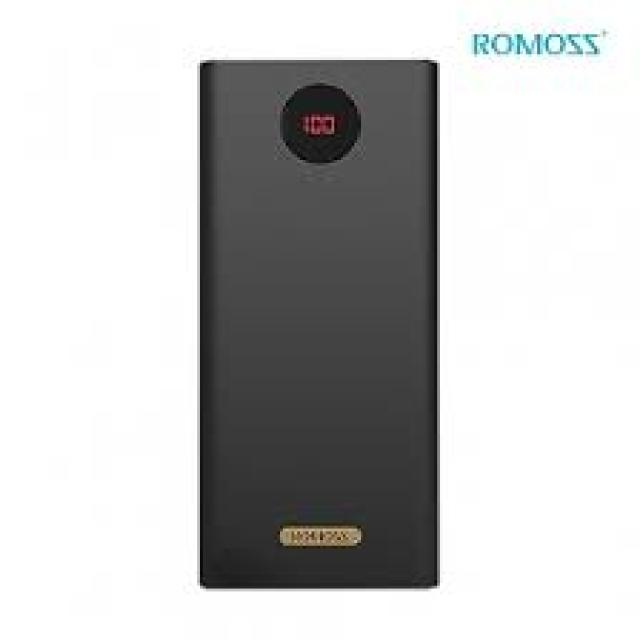portable-charger: (200, 62, 442, 591)
